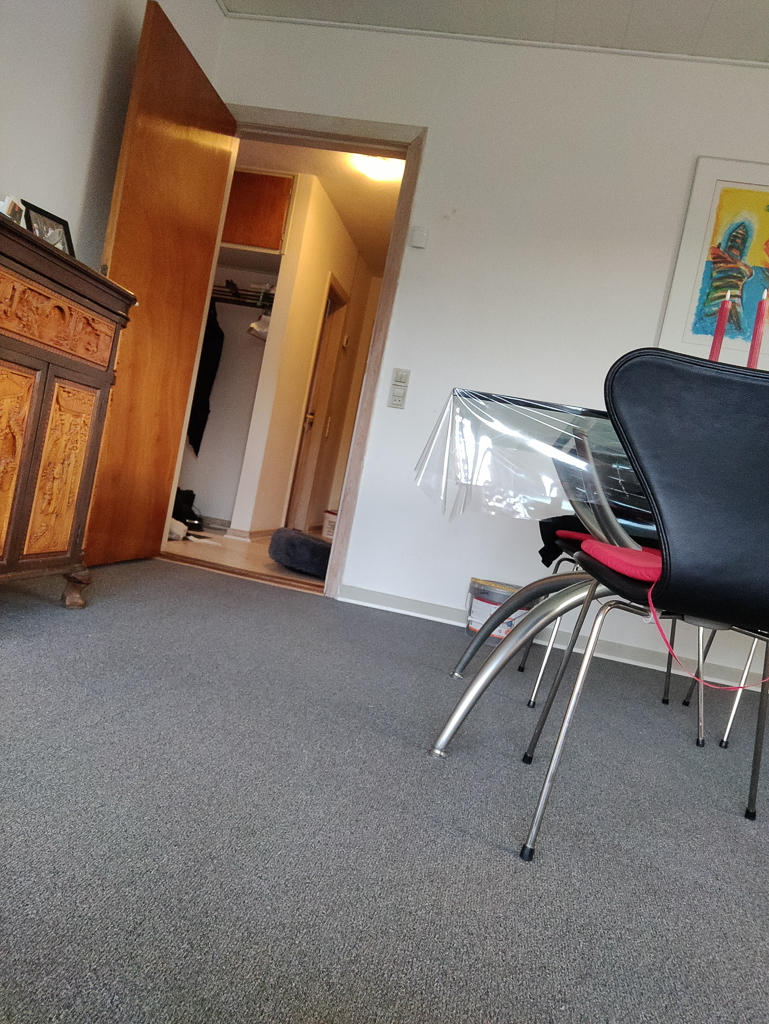Dog: (160, 474, 226, 555)
